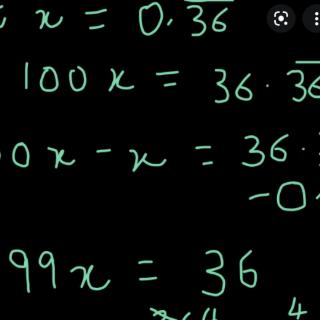.: (165, 14, 176, 29)
0: (274, 177, 309, 217), (133, 1, 164, 40), (36, 60, 60, 96), (11, 140, 34, 170), (67, 65, 87, 95)
1: (17, 55, 32, 95)
3: (200, 244, 229, 299), (237, 129, 265, 169), (209, 59, 231, 107), (183, 3, 209, 38), (284, 67, 308, 103)
6: (237, 245, 261, 290), (270, 126, 292, 165), (233, 71, 257, 103), (210, 6, 231, 36)
9: (6, 246, 34, 296), (35, 248, 61, 293)
